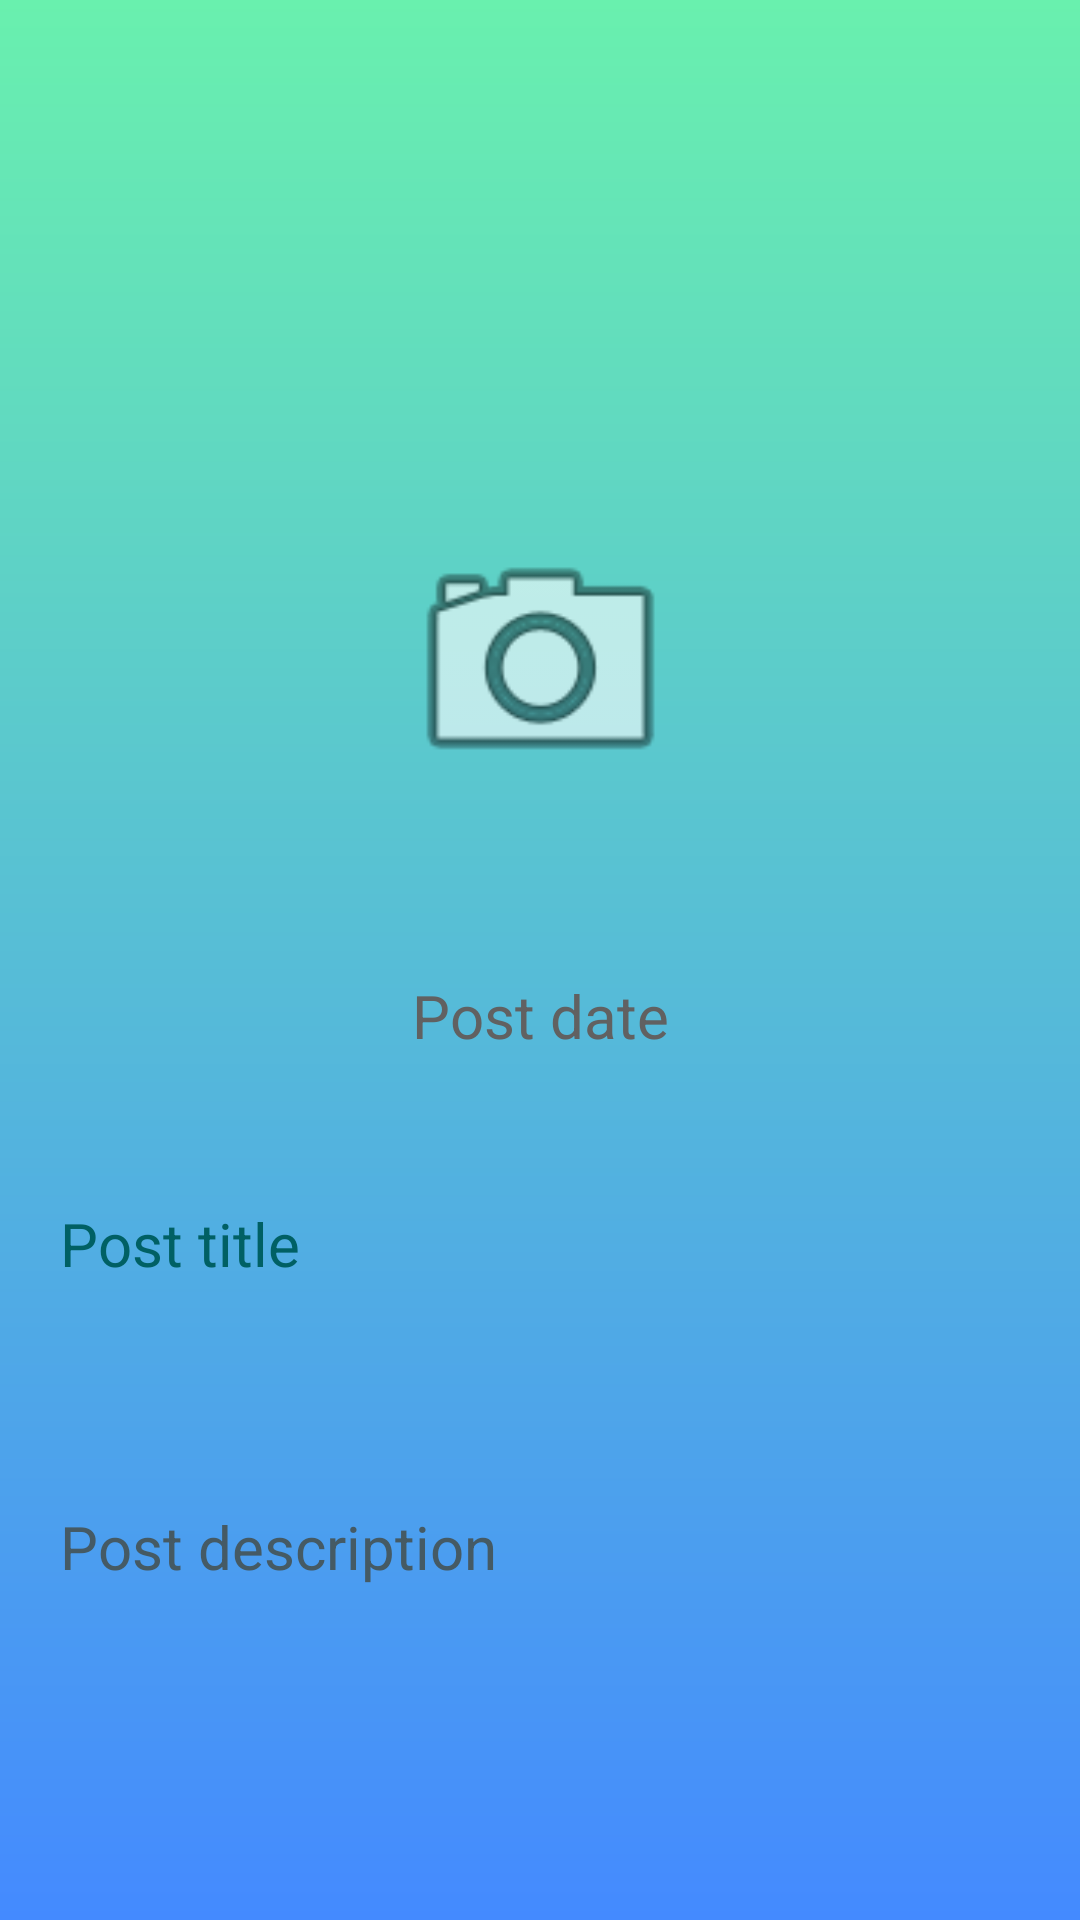

Icons on this 1080*1920 Android screen, each with the point to tap as (x,y):
camera: (540,659)
